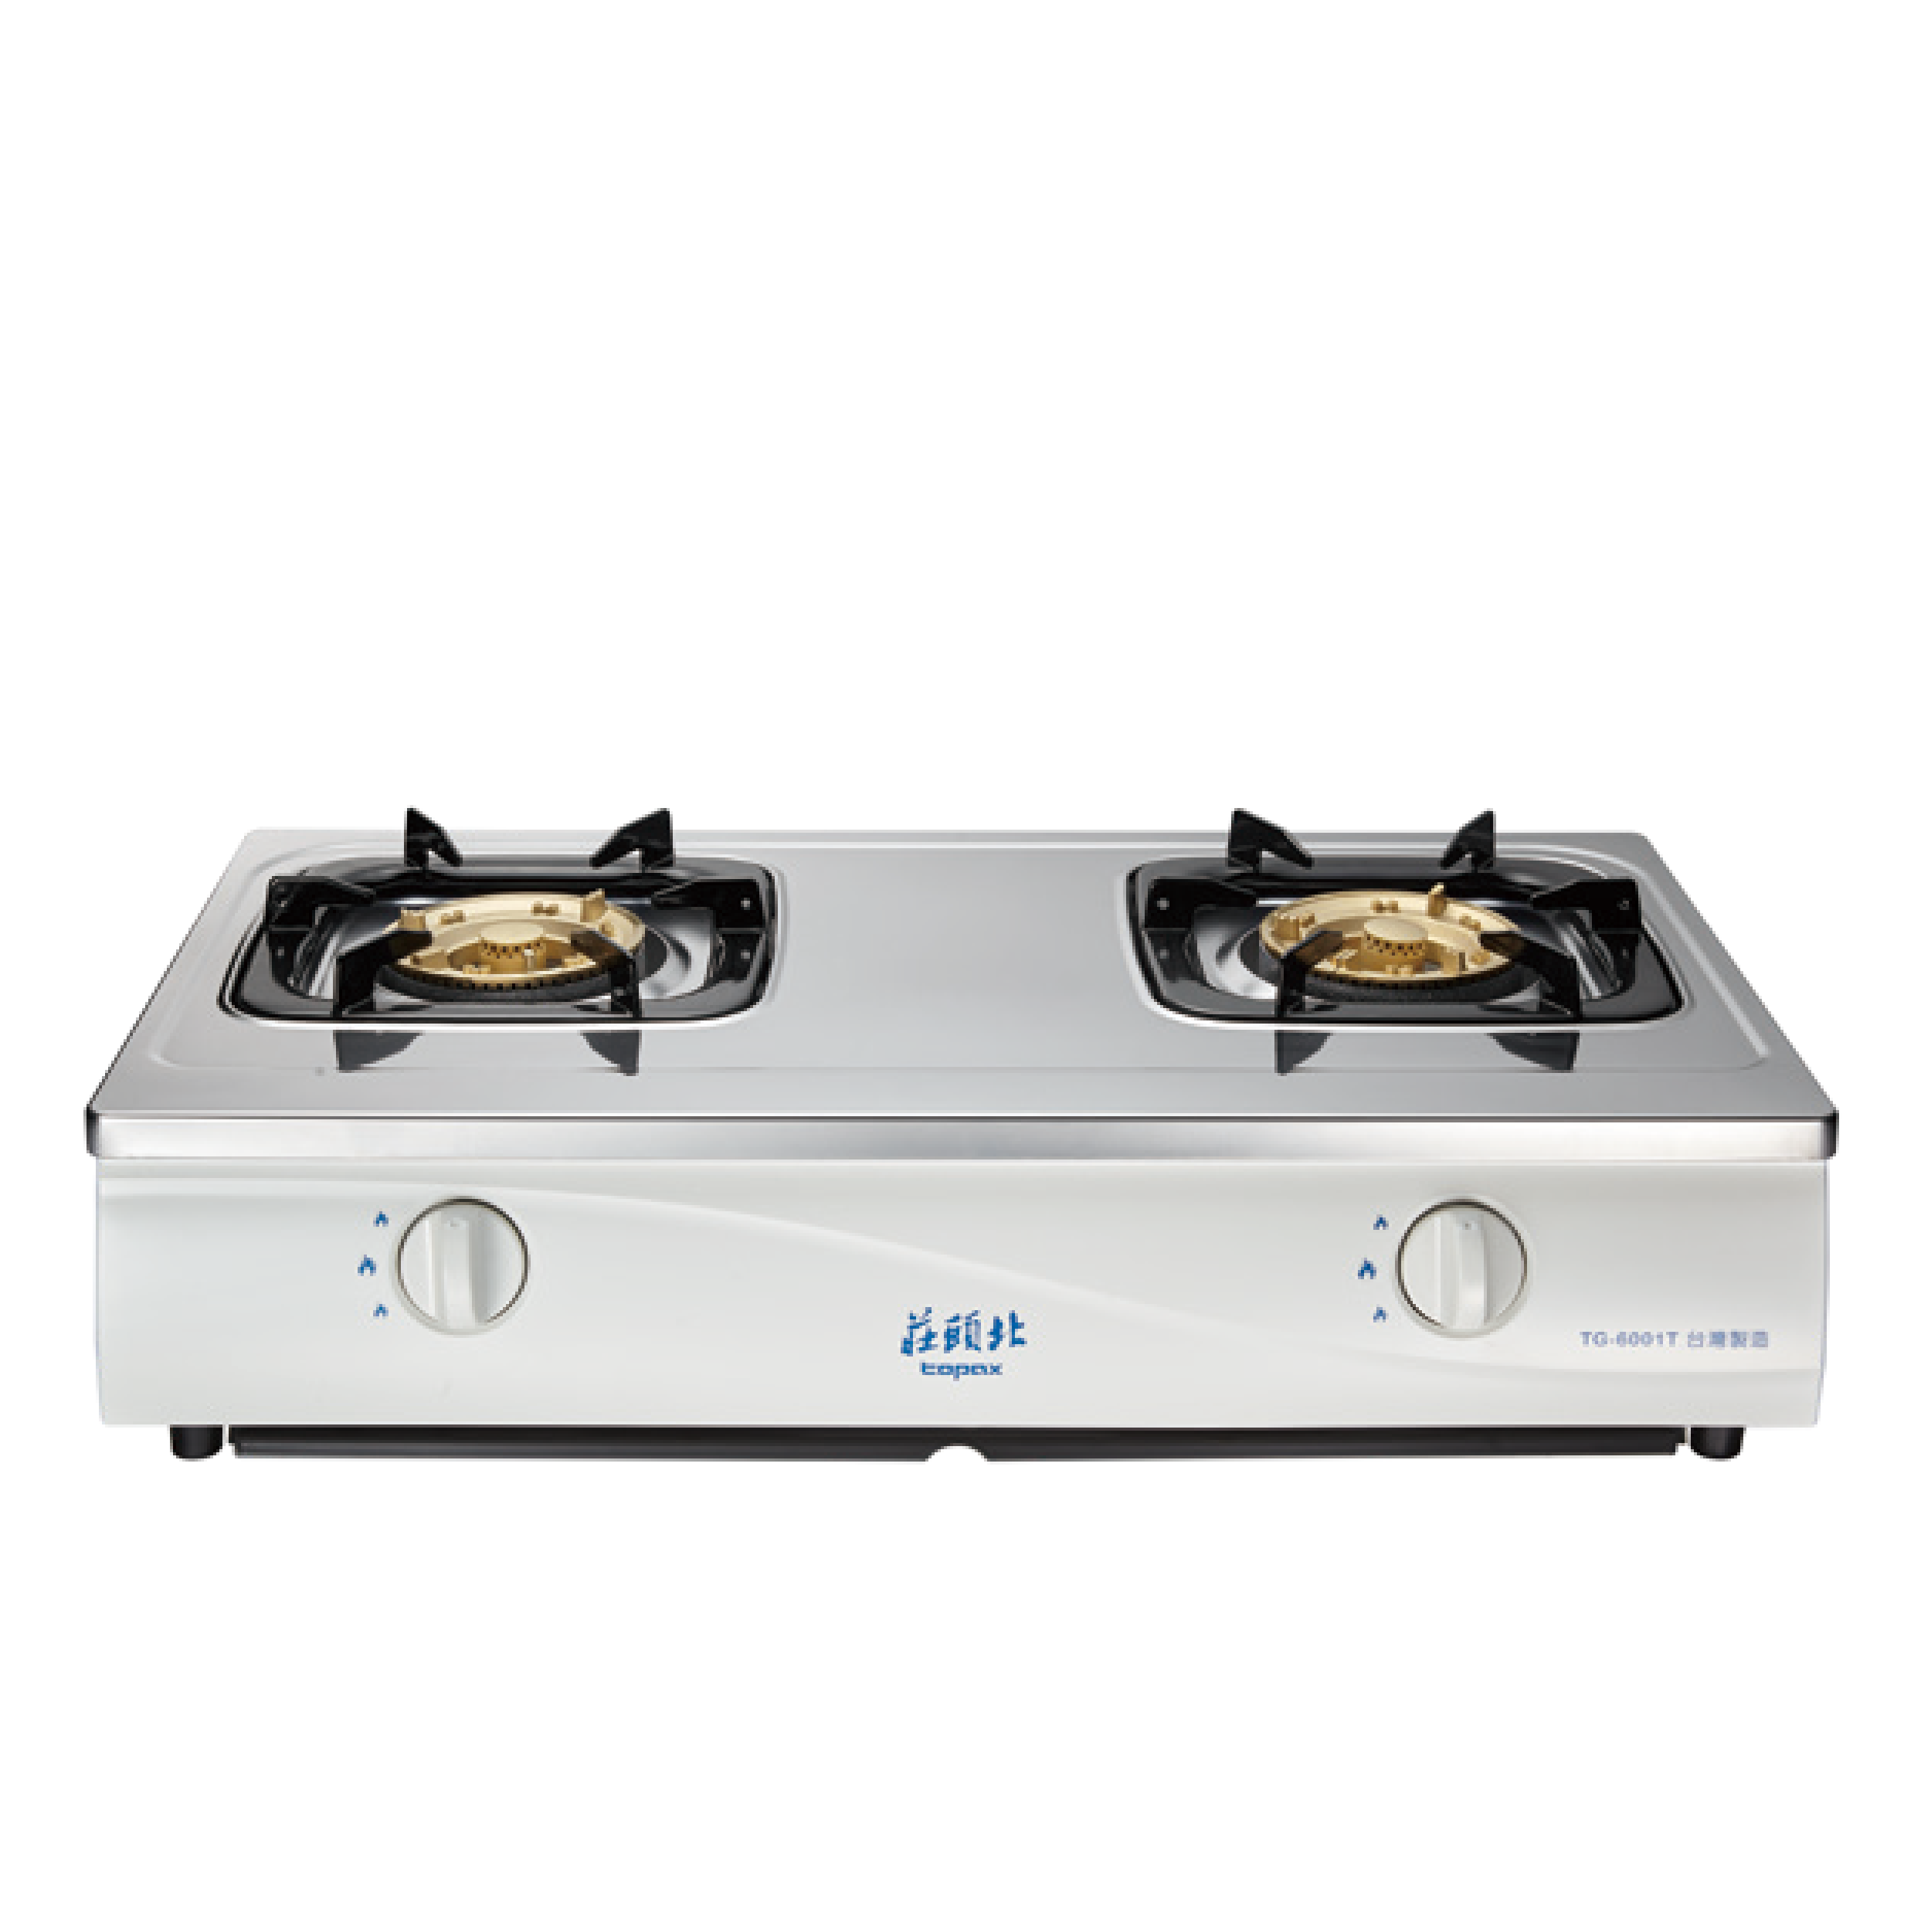gasoven: (57, 796, 1855, 1484)
